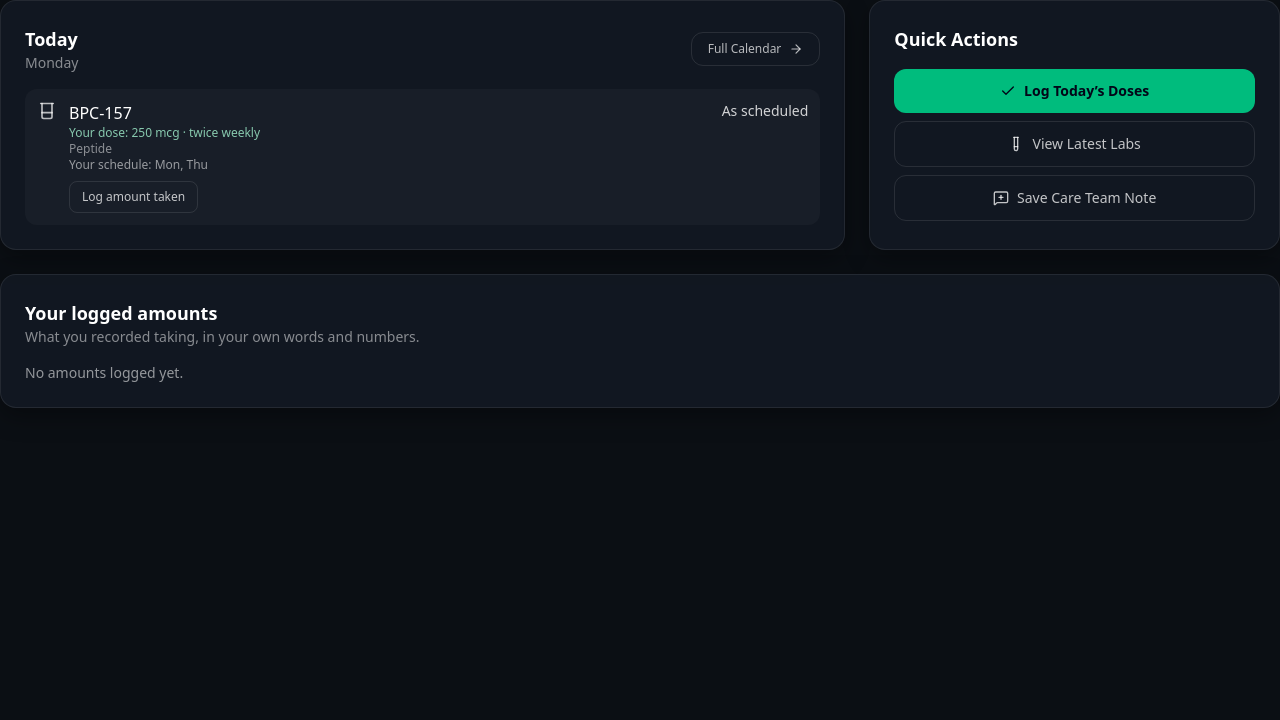
Test: schedule: logging the amount actually taken › opens a log form whose amount and unit start blank, even when the user saved a dose on the compound
The width and height of the screenshot is (1280, 720).
Click the button "Log amount taken": (134, 197) 69,181 -> 198,213
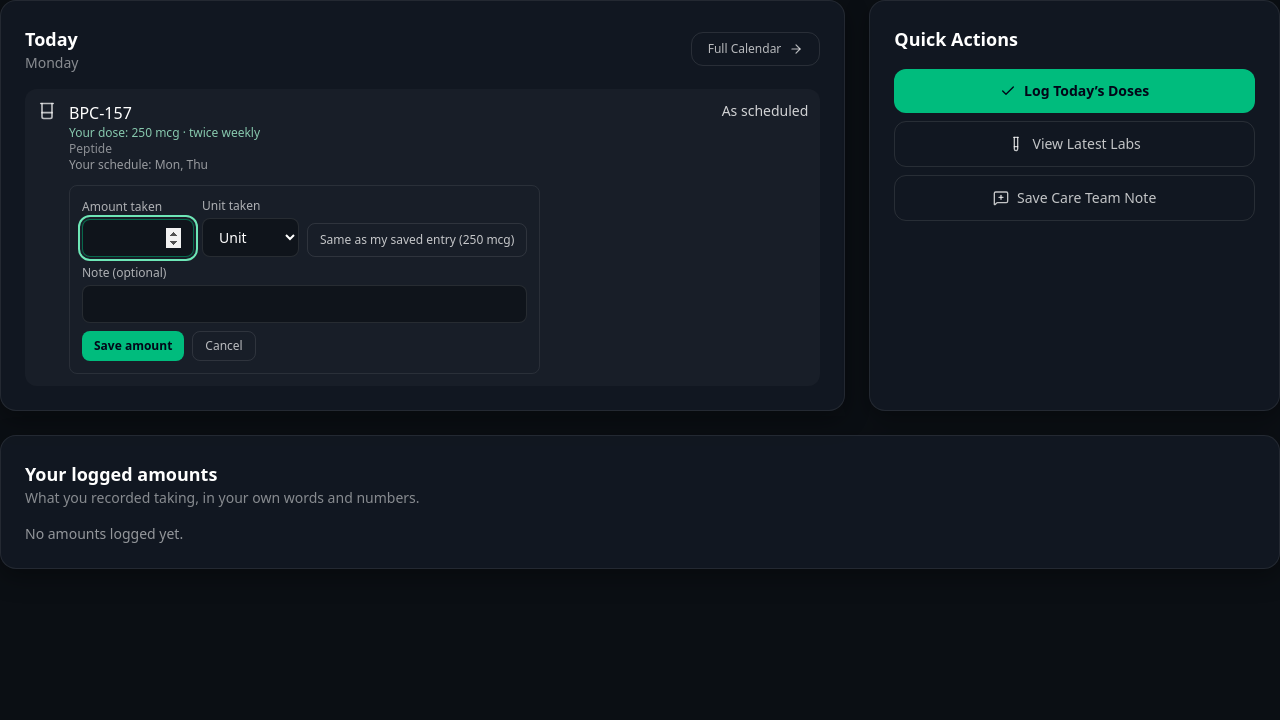
Check: the field labelled "Note (optional)" is empty, box 82,285 -> 527,323
Check: the number field labelled "Amount taken" is empty, box 82,219 -> 194,257
Check: the dropdown labelled "Unit taken" shows "Unit", box 202,218 -> 299,257
